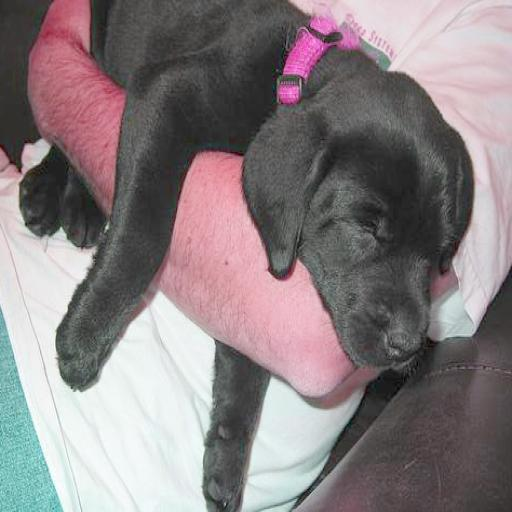dog_face: (273, 62, 462, 357)
